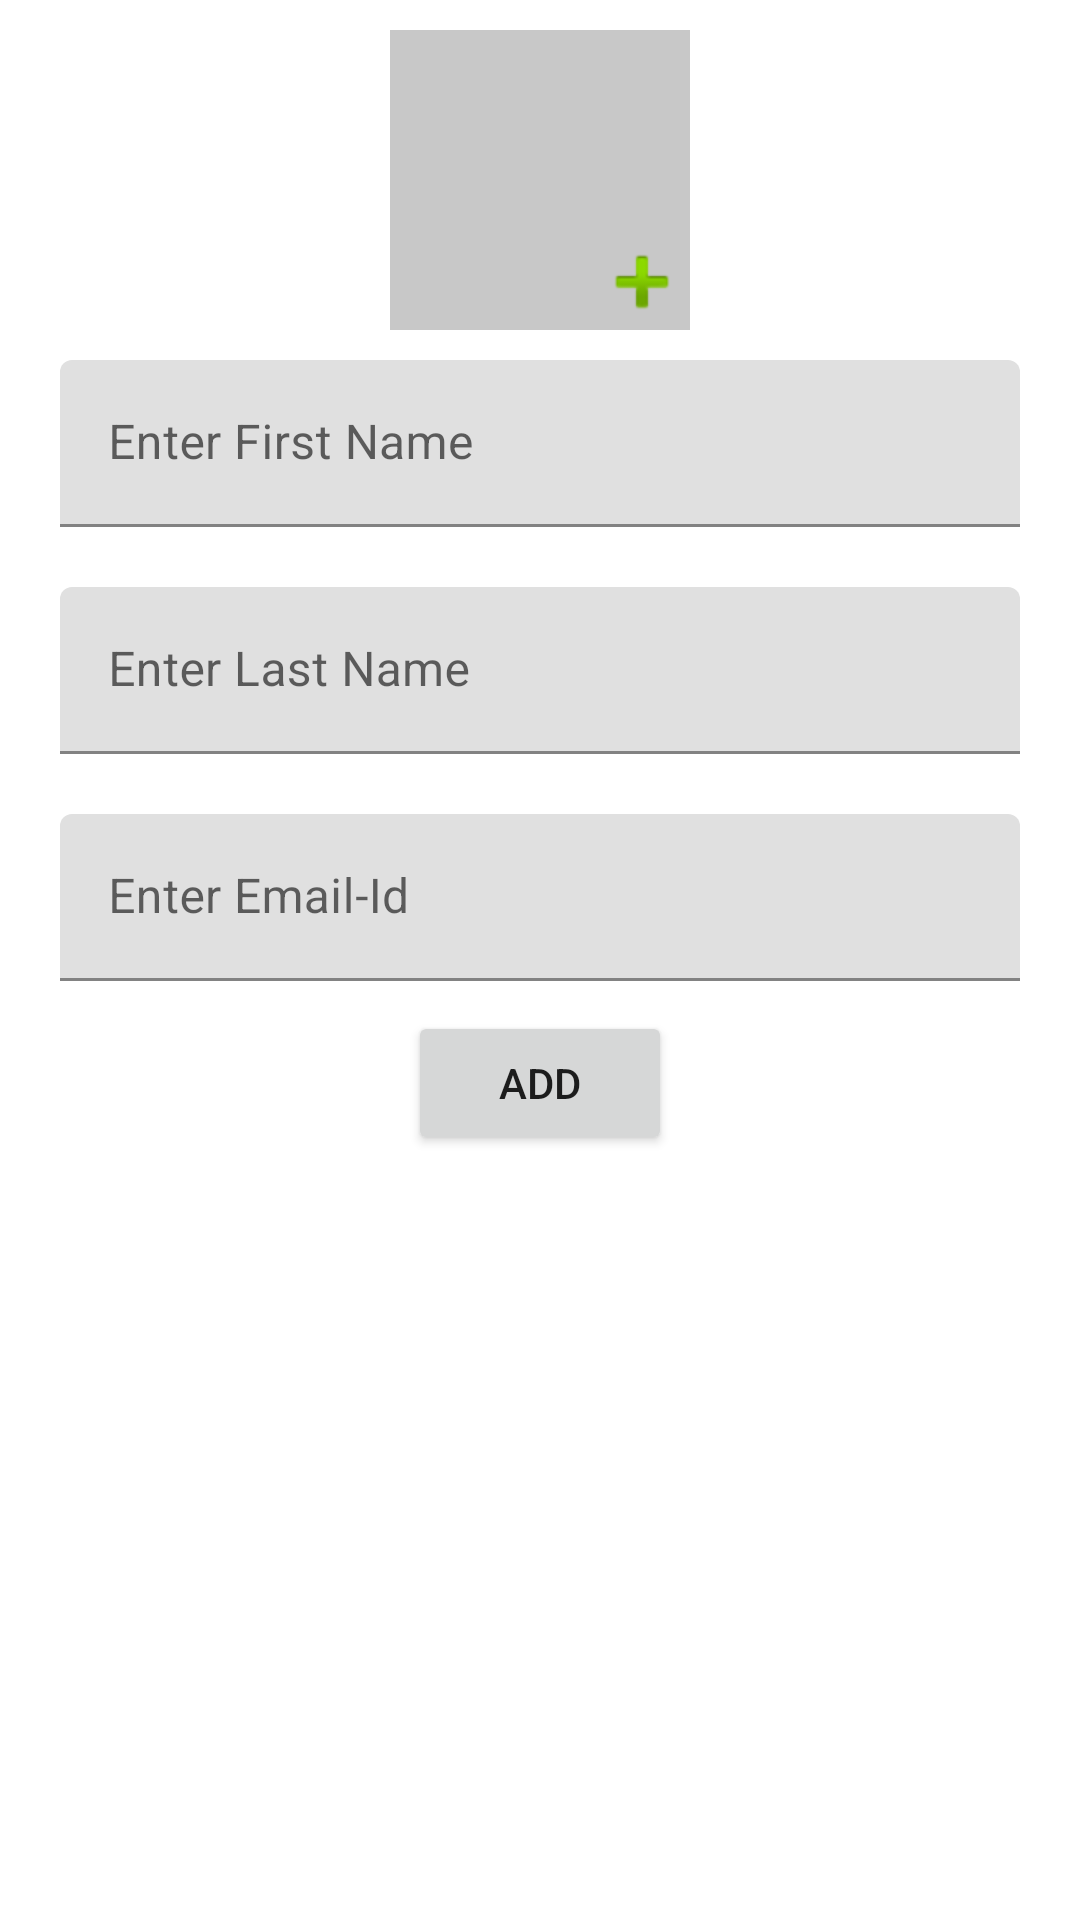

Icons on this 1080x1920 Android screen, each with its box as region(x1, y1, x2, y2):
add: region(615, 255, 669, 309)
